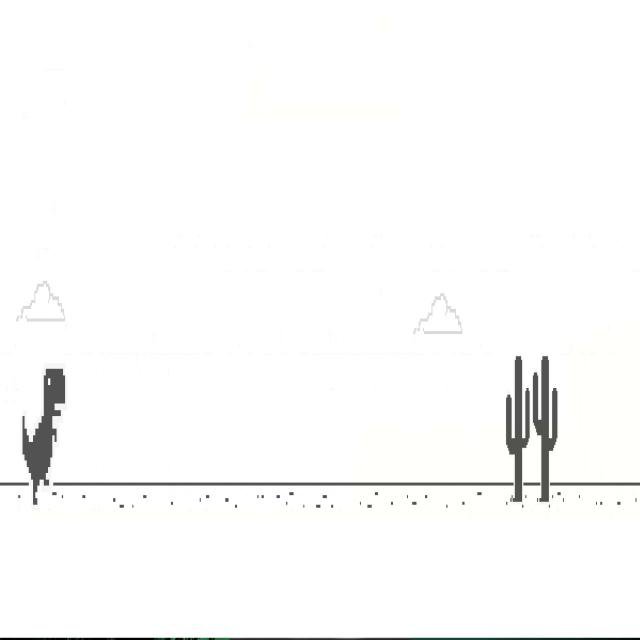cacto: (532, 354, 558, 504), (506, 354, 530, 504)
dino: (22, 368, 66, 507)
